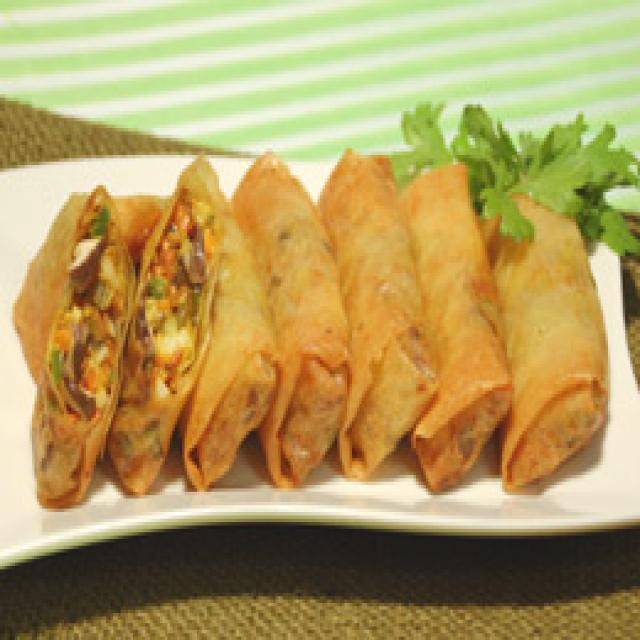鸡蛋料理: (2, 135, 616, 515)
